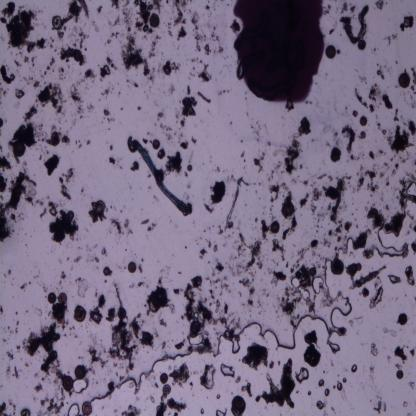Air bubble: (292, 274, 357, 346), (224, 316, 297, 354), (368, 236, 404, 264), (404, 264, 416, 289), (74, 379, 90, 394), (66, 401, 80, 416), (336, 381, 344, 392), (352, 363, 358, 374), (343, 378, 347, 384)
Background material: (183, 270, 235, 351), (0, 170, 36, 242), (254, 356, 297, 409), (112, 319, 154, 370), (235, 234, 262, 308), (282, 114, 313, 177), (25, 321, 60, 374), (119, 34, 151, 78), (368, 204, 408, 238), (6, 7, 37, 50), (49, 209, 82, 246), (324, 176, 350, 222), (280, 188, 301, 241), (375, 152, 409, 182), (36, 83, 65, 117), (389, 118, 416, 152), (168, 361, 194, 392), (243, 344, 275, 369), (146, 284, 171, 314), (278, 293, 300, 327), (62, 0, 89, 26), (304, 330, 321, 370), (354, 168, 381, 193), (9, 124, 37, 148), (353, 83, 376, 112), (341, 125, 358, 164), (58, 29, 87, 51), (58, 166, 75, 202), (398, 177, 416, 210), (156, 110, 173, 144), (133, 0, 151, 32), (326, 222, 354, 242), (191, 11, 204, 54), (90, 292, 106, 326), (291, 247, 312, 272), (50, 302, 70, 327), (368, 278, 384, 309), (354, 226, 371, 254), (271, 236, 290, 261), (302, 189, 320, 214), (123, 1, 136, 35), (88, 346, 108, 368), (209, 180, 227, 204), (72, 275, 90, 298), (209, 27, 223, 55), (40, 398, 66, 413), (166, 152, 182, 176), (0, 62, 16, 86), (44, 154, 61, 176), (267, 265, 287, 283), (26, 36, 46, 54), (180, 96, 197, 117), (379, 90, 395, 112), (111, 279, 124, 306), (102, 26, 119, 46), (268, 181, 284, 202), (53, 367, 66, 392), (161, 59, 180, 76), (68, 83, 82, 106), (173, 2, 187, 25), (74, 104, 94, 120), (30, 120, 44, 142), (23, 104, 38, 124), (198, 62, 212, 83), (58, 45, 76, 61), (398, 14, 414, 32), (167, 397, 186, 412), (86, 211, 106, 225), (100, 82, 113, 103), (374, 117, 387, 138), (42, 57, 55, 78), (5, 363, 22, 379), (46, 198, 59, 218), (149, 36, 162, 56), (55, 65, 70, 82), (261, 217, 272, 240), (43, 132, 61, 146), (110, 218, 124, 236), (253, 152, 265, 173), (156, 332, 168, 353), (186, 56, 196, 80), (1, 2, 16, 18), (120, 404, 140, 416), (228, 252, 238, 276), (394, 346, 409, 362), (106, 304, 118, 324), (126, 277, 149, 287), (0, 154, 13, 171), (356, 70, 370, 85), (374, 398, 387, 414), (99, 63, 111, 80), (0, 173, 9, 195), (242, 381, 253, 399), (323, 2, 335, 18), (86, 250, 99, 264), (102, 110, 115, 124), (19, 73, 34, 85), (123, 218, 133, 236), (156, 397, 166, 415), (80, 70, 98, 80), (55, 267, 65, 285), (15, 154, 25, 172), (197, 92, 212, 104), (177, 25, 188, 41), (88, 329, 100, 343), (18, 279, 30, 293), (130, 159, 141, 174), (6, 400, 16, 416), (232, 314, 242, 330), (230, 20, 241, 34), (143, 219, 157, 230), (240, 148, 249, 165), (48, 35, 56, 53), (385, 33, 398, 44), (106, 380, 116, 394), (215, 259, 225, 273), (215, 221, 224, 236), (179, 139, 191, 150), (34, 305, 46, 316), (392, 109, 402, 122), (0, 402, 10, 415), (13, 320, 21, 336), (370, 343, 379, 357), (14, 89, 25, 100), (375, 0, 386, 11), (376, 69, 386, 81), (147, 373, 157, 385), (328, 22, 338, 34), (156, 316, 168, 326), (106, 59, 116, 71), (34, 381, 44, 393), (110, 0, 120, 12), (23, 58, 36, 67), (199, 247, 208, 260), (41, 276, 48, 292), (61, 134, 72, 144), (74, 254, 85, 264), (217, 86, 227, 97), (83, 243, 96, 251), (310, 238, 320, 248), (112, 16, 122, 26), (38, 207, 47, 218), (148, 391, 155, 405), (20, 407, 32, 415), (362, 286, 370, 298), (0, 86, 8, 98), (185, 84, 192, 97), (5, 352, 14, 362), (6, 324, 14, 335), (205, 204, 216, 212), (164, 24, 172, 35), (368, 146, 374, 160), (101, 246, 108, 258), (204, 43, 210, 57), (213, 243, 222, 252), (6, 268, 14, 278), (108, 156, 116, 166), (190, 134, 198, 144), (135, 102, 142, 113), (34, 81, 42, 90), (235, 376, 243, 385), (173, 286, 182, 294), (156, 277, 165, 285), (158, 149, 165, 159), (14, 60, 21, 70), (359, 130, 366, 139), (179, 119, 186, 128), (15, 344, 22, 353), (66, 253, 72, 263), (175, 340, 182, 348), (138, 266, 145, 274), (0, 16, 7, 24), (410, 347, 415, 358), (80, 187, 86, 196), (108, 144, 114, 152), (208, 237, 212, 249), (76, 140, 81, 149), (97, 4, 102, 13), (170, 302, 174, 313), (216, 164, 220, 174), (86, 140, 92, 146), (337, 48, 341, 56), (0, 306, 4, 314), (176, 270, 181, 276), (2, 338, 6, 343), (134, 82, 137, 88)
Cellulose filter fibre: (224, 177, 250, 229), (342, 4, 370, 44), (350, 264, 388, 290)
Cotton: (127, 137, 191, 216)
Diatom: (200, 363, 216, 390), (231, 395, 246, 414), (294, 367, 309, 384), (220, 362, 235, 378), (74, 304, 86, 323), (13, 141, 26, 157), (332, 258, 345, 274), (398, 73, 411, 89), (62, 375, 74, 392), (326, 339, 340, 353), (74, 364, 86, 380), (51, 14, 63, 30), (331, 146, 342, 162), (126, 260, 138, 274), (94, 200, 106, 214), (324, 45, 336, 59), (388, 273, 401, 285), (57, 292, 68, 306), (116, 306, 127, 320), (149, 13, 160, 27), (357, 38, 367, 52), (309, 264, 319, 278), (270, 220, 280, 234), (151, 138, 161, 151), (73, 48, 82, 62), (82, 402, 92, 414), (47, 293, 57, 304), (159, 373, 169, 384), (102, 266, 113, 276), (398, 314, 407, 326), (67, 208, 74, 222), (163, 384, 171, 396), (185, 163, 194, 173), (396, 369, 404, 380), (360, 115, 368, 126), (318, 378, 325, 388), (324, 388, 330, 396), (0, 119, 4, 128)
Pen: (232, 0, 325, 105)
